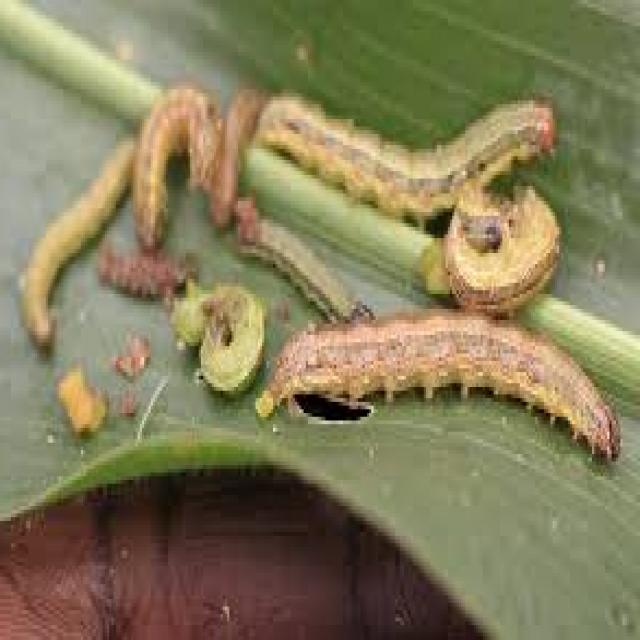armyworm: (266, 318, 624, 467), (257, 97, 557, 210), (14, 128, 134, 346), (438, 185, 567, 309), (239, 203, 365, 320), (130, 91, 206, 252), (171, 275, 268, 395), (205, 89, 255, 228), (94, 244, 201, 295), (50, 358, 108, 446)
